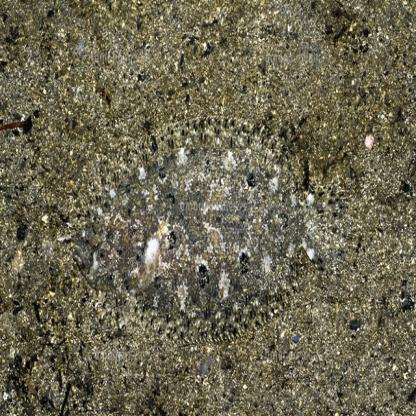flounder: (70, 106, 353, 353)
